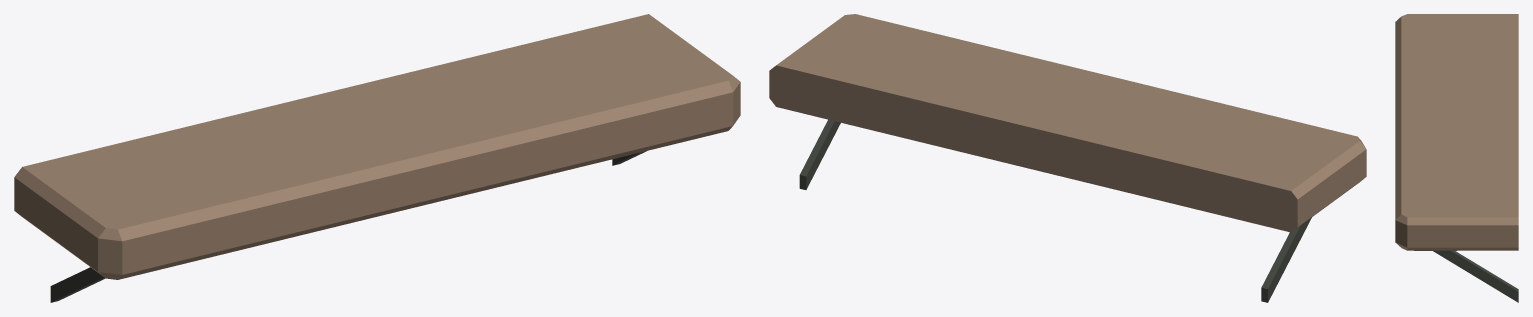
Rendered from w_r_plant_shelf.glb.
The picture shows the model from 3 angles, left to right: view 1: azimuth 30°, elevation 25°; view 2: azimuth 150°, elevation 25°; view 3: azimuth 270°, elevation 25°; orthographic projection. The views are drawn at different scales.
Visible parts, largest first — view 1: Shelf, Cube.001; view 2: Shelf, Cube.001; view 3: Shelf, Cube.001.
Boxes of the visible parts, bbox=[...] form: Shelf: bbox=[14, 14, 740, 279]; Cube.001: bbox=[50, 151, 646, 302]; Shelf: bbox=[769, 14, 1366, 232]; Cube.001: bbox=[799, 119, 1311, 302]; Shelf: bbox=[1395, 14, 1518, 250]; Cube.001: bbox=[1414, 250, 1518, 302].
Bounding box in the file's own units: 8 × 1.7 × 2.
